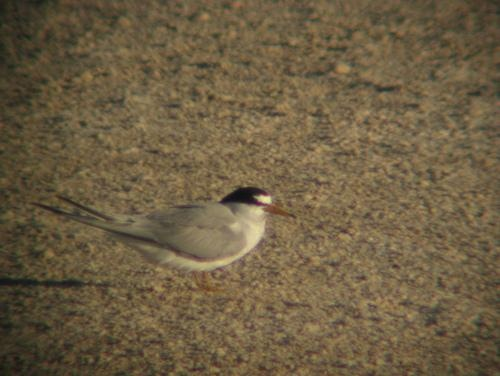bird: (34, 190, 289, 283)
